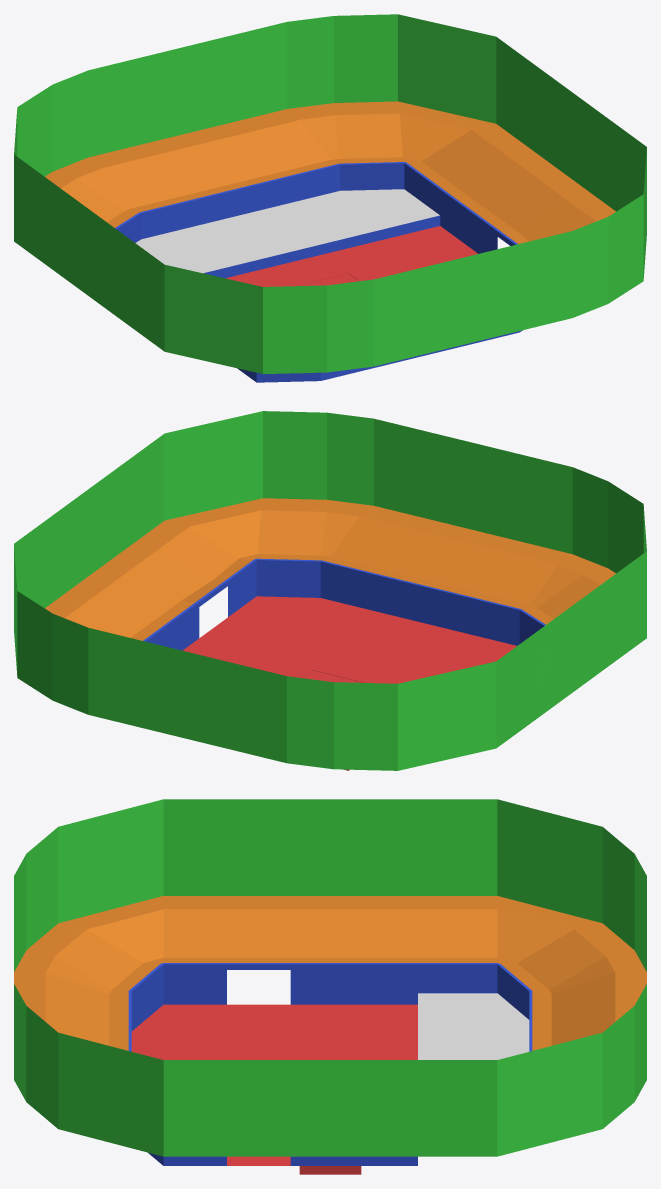
Rendered from LiveHall_Base.fbx.
3 renders of one model, top to bottom at view 1: azimuth 30°, elevation 25°; view 2: azimuth 150°, elevation 25°; view 3: azimuth 270°, elevation 25°, orthographic. The views are drawn at different scales.
Parts seen in each view (by area): view 1: LiveHall_Base; view 2: LiveHall_Base; view 3: LiveHall_Base, LiveHall_UnderFloor.
Part boxes in pixels (x1,y1,x2,y2): LiveHall_Base: (14, 14, 646, 382); LiveHall_Base: (14, 411, 646, 770); LiveHall_Base: (14, 799, 646, 1165); LiveHall_UnderFloor: (299, 1166, 361, 1174).
Bounding box in the file's own units: 38.8 × 15.8 × 39.8.
